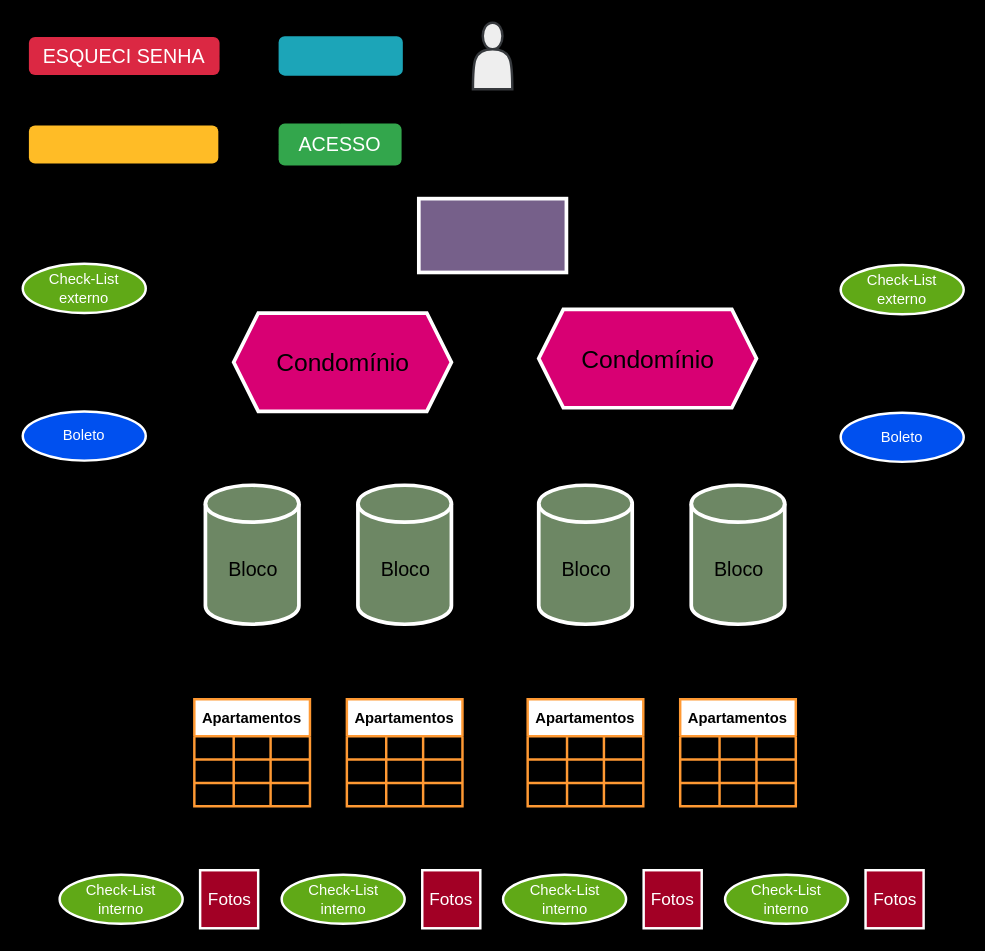
Image size: 985x951. Some labels were removed from this diagram. The shapes that lost their labels are listed below. From the top down, each one's box as (x1, y1, x2, y2) in pixels, then its label:
(278, 36, 402, 75): LOGIN
(28, 125, 218, 163): REDEFINIR SENHA
(416, 196, 568, 274): Gerente
